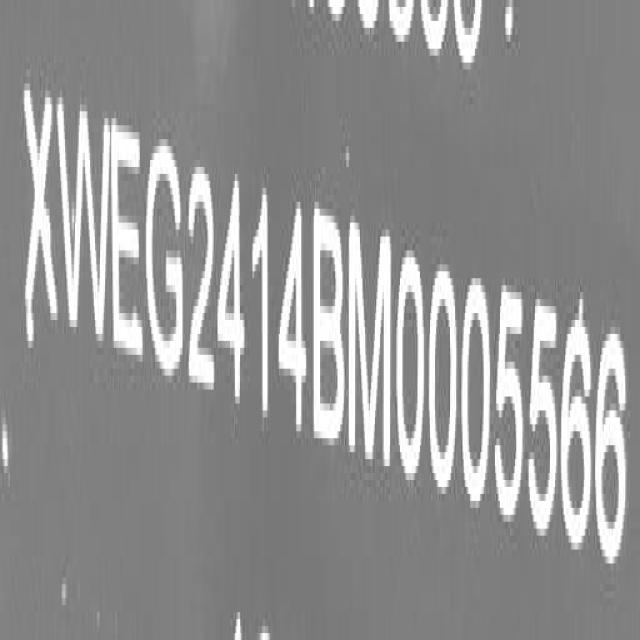0: (396, 239, 428, 493), (460, 268, 490, 520), (430, 255, 459, 507)
1: (254, 181, 274, 434)
2: (189, 152, 218, 405)
4: (279, 186, 311, 445), (218, 170, 247, 419)
5: (530, 285, 559, 539), (498, 276, 527, 526)
6: (560, 300, 594, 559), (593, 320, 626, 573)
B: (313, 205, 347, 456)
E: (113, 109, 145, 375)
G: (144, 120, 186, 388)
M: (349, 213, 393, 476)
W: (55, 78, 114, 365)
X: (20, 71, 60, 356)
